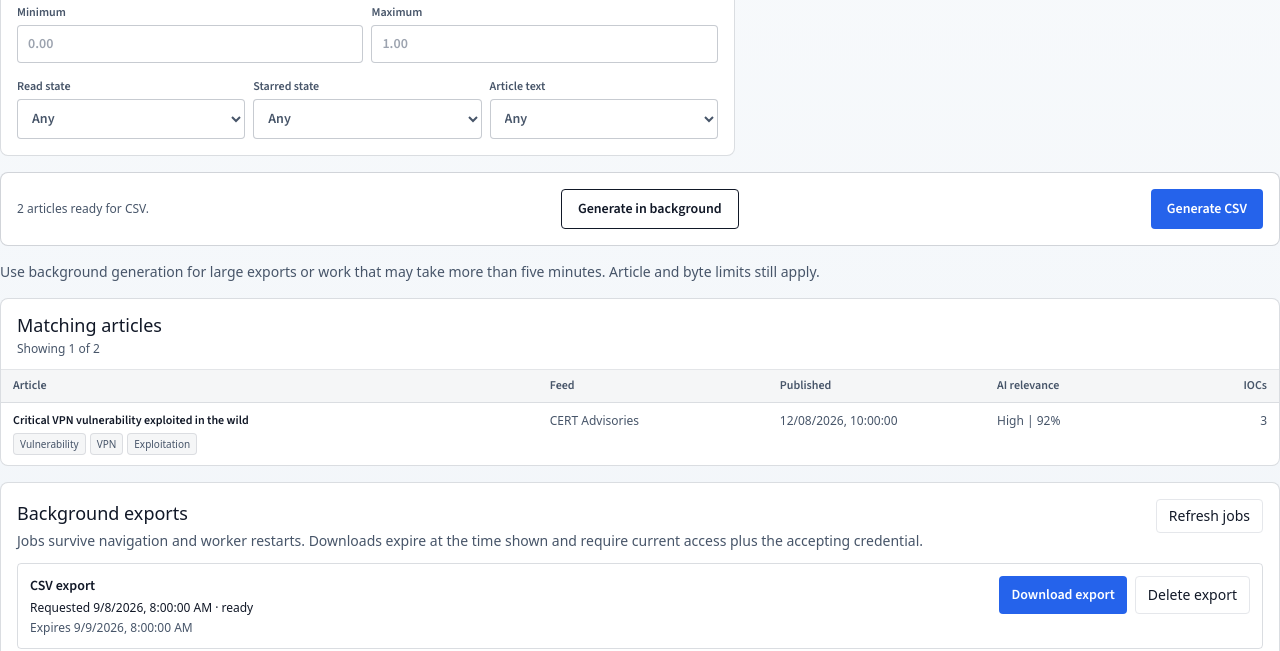
Test: ExportPage › does not download a background artifact returned after a session change
(page scrolled)
Click the button "Download export".
click(1063, 594)  # box [999,576,1127,614]
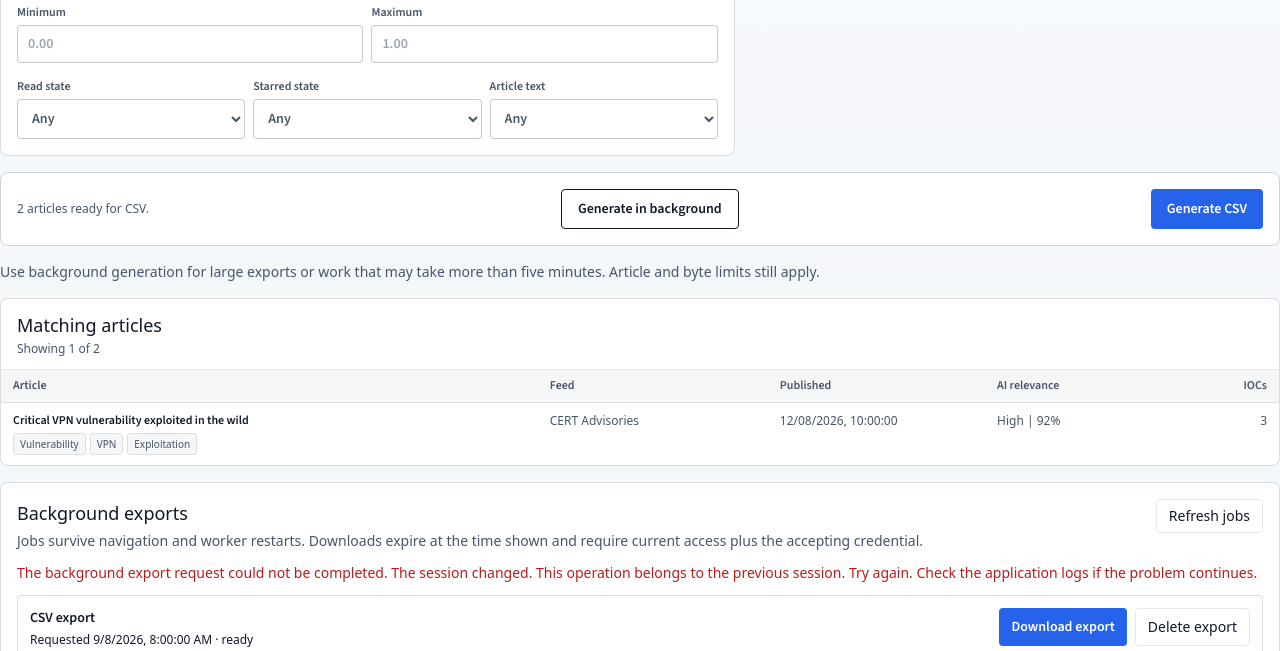
Expected: the text "session changed" is shown, [17,562,1257,582]
